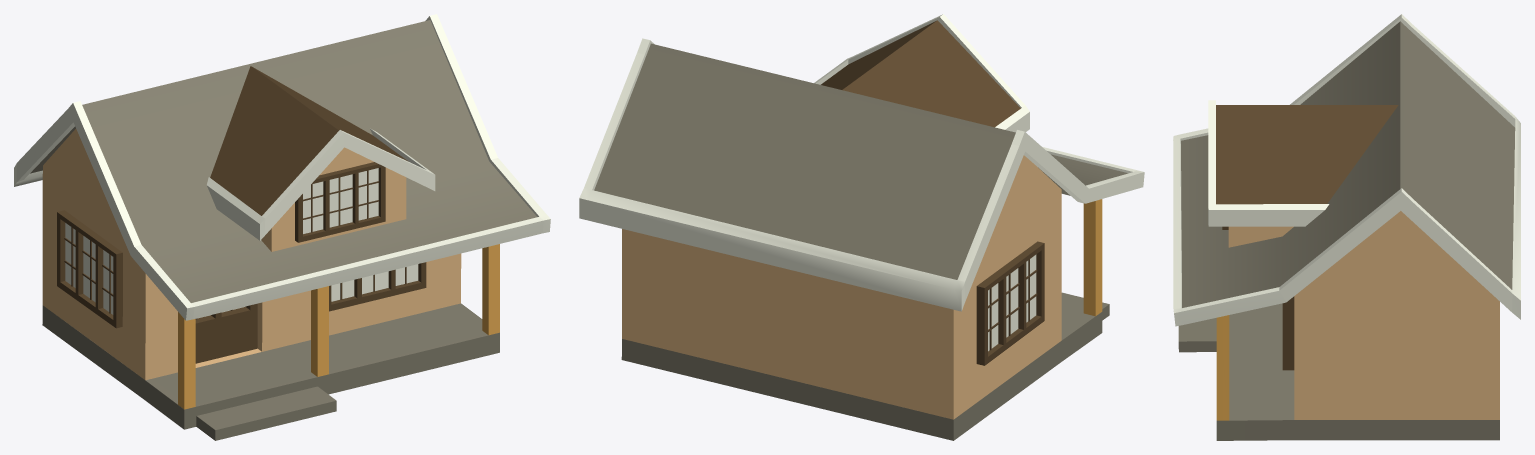
The model's file is house-3.glb.
3 views of the same model, side by side, from view 1: azimuth 30°, elevation 25°; view 2: azimuth 150°, elevation 25°; view 3: azimuth 270°, elevation 25° (orthographic). The views are drawn at different scales.
Parts seen in each view (by area): view 1: Object_2; view 2: Object_2; view 3: Object_2.
Boxes of the visible parts, <box> form: Object_2: <box>14,14,550,440</box>; Object_2: <box>579,14,1144,440</box>; Object_2: <box>1173,14,1520,440</box>.
Size of the model in its own units: 2.46 by 1.7 by 2.03.
1 material, 1 textured.
